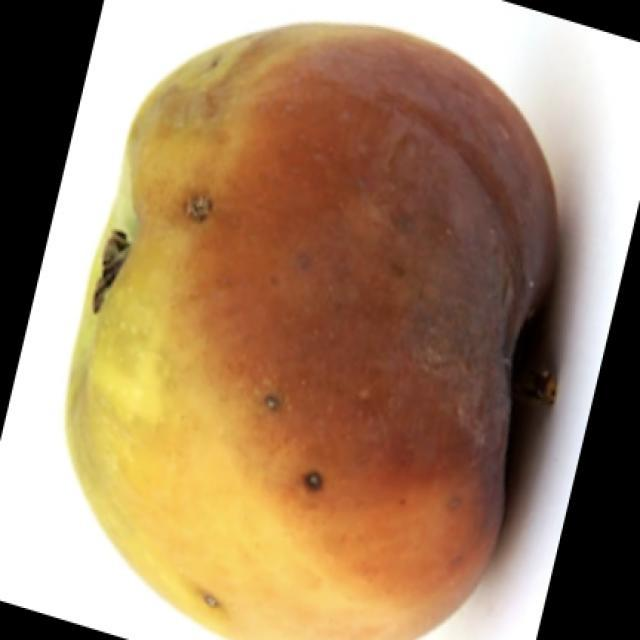Rotten: (86, 28, 556, 640)
